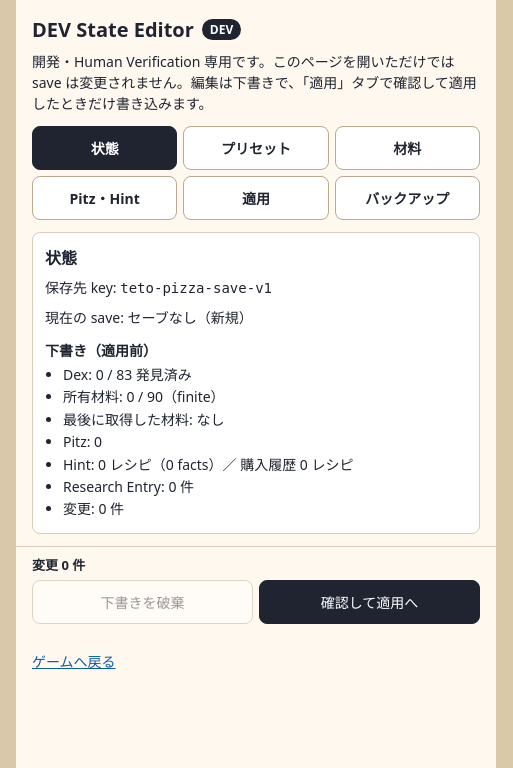
Test: StateEditorShell (the entry component, localStorage) › shows whether a backup exists, without touching it
Click the tab "バックアップ" at (407, 198), box [335,176,480,220]
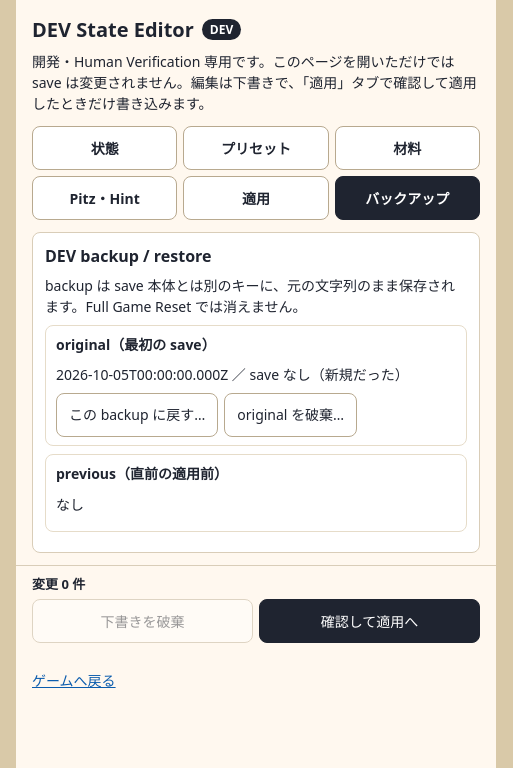
Check: the text "2026-10-05T00:00:00.000Z ／ save なし（新規だった）" is shown, box [56,364,456,385]
Check: the list item "previous（直前の適用前） なし" is shown, box [45,454,467,532]
